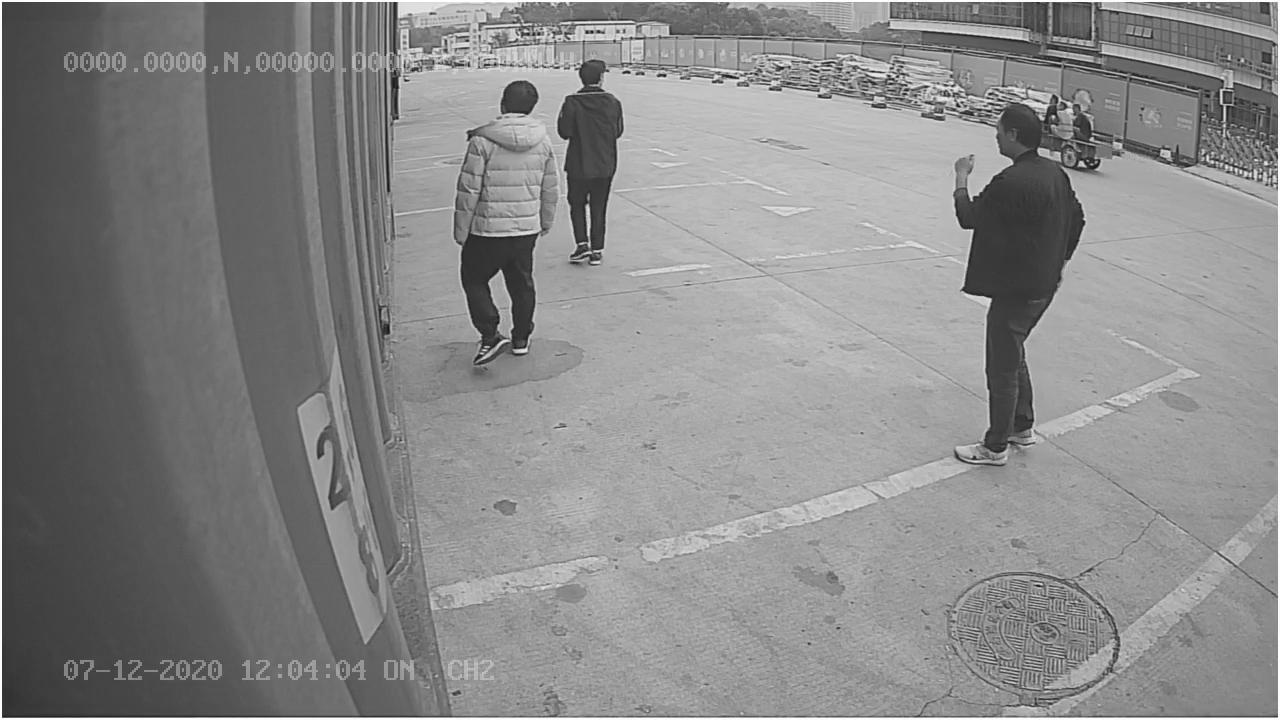person: (943, 96, 1089, 465), (447, 73, 559, 371)
